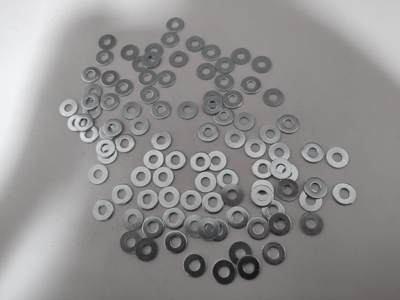circle: (212, 260, 237, 286), (299, 212, 324, 237), (261, 200, 286, 224), (262, 242, 287, 266), (237, 256, 261, 281), (247, 217, 271, 241), (183, 254, 207, 278), (226, 206, 250, 230), (332, 183, 356, 206), (269, 213, 292, 237), (222, 184, 245, 208), (206, 219, 229, 243), (184, 215, 206, 240), (198, 217, 220, 242), (276, 179, 299, 202), (300, 190, 323, 213), (164, 231, 187, 254), (229, 242, 252, 265), (251, 186, 275, 208), (136, 239, 158, 263), (327, 148, 350, 170), (252, 180, 274, 203), (180, 190, 203, 212), (120, 232, 142, 255), (143, 217, 165, 239), (163, 208, 185, 230), (304, 178, 327, 199), (205, 151, 228, 172), (217, 169, 240, 190), (159, 187, 180, 210), (122, 209, 143, 232), (302, 143, 324, 164), (270, 159, 292, 180), (269, 143, 291, 164), (93, 200, 114, 222), (112, 184, 133, 206), (165, 150, 187, 171), (195, 172, 217, 193), (202, 193, 224, 214), (153, 167, 174, 189), (137, 190, 159, 211), (214, 106, 235, 127), (252, 159, 273, 180), (131, 167, 152, 188), (278, 114, 300, 134), (190, 152, 212, 172), (245, 139, 266, 159), (234, 112, 255, 132), (198, 123, 219, 143), (177, 101, 198, 121), (97, 145, 118, 165), (88, 165, 109, 185), (260, 125, 282, 144), (224, 130, 246, 149), (277, 164, 299, 183), (144, 150, 164, 170), (152, 131, 172, 151), (241, 76, 262, 95), (263, 88, 284, 107), (202, 97, 223, 116), (202, 91, 223, 110), (129, 117, 150, 136), (114, 135, 136, 153), (151, 101, 171, 120), (121, 102, 141, 121), (83, 102, 103, 121), (96, 139, 116, 158), (80, 125, 99, 144), (252, 56, 272, 74), (214, 74, 234, 92), (223, 91, 243, 109), (67, 114, 87, 132), (157, 70, 176, 88), (216, 57, 235, 75), (140, 87, 159, 105), (75, 114, 94, 132), (104, 119, 123, 137), (99, 123, 118, 141), (197, 63, 217, 80), (100, 94, 120, 111), (101, 70, 120, 87), (114, 79, 133, 96), (138, 70, 157, 87), (232, 48, 251, 65), (84, 84, 103, 101), (60, 100, 79, 117), (143, 52, 161, 69), (170, 51, 188, 68), (99, 34, 118, 50), (202, 45, 221, 61), (81, 94, 100, 110), (83, 66, 100, 83), (121, 45, 139, 61), (96, 50, 114, 66), (186, 37, 205, 52), (133, 56, 150, 72), (167, 18, 185, 33), (162, 32, 180, 47), (145, 43, 163, 58)
